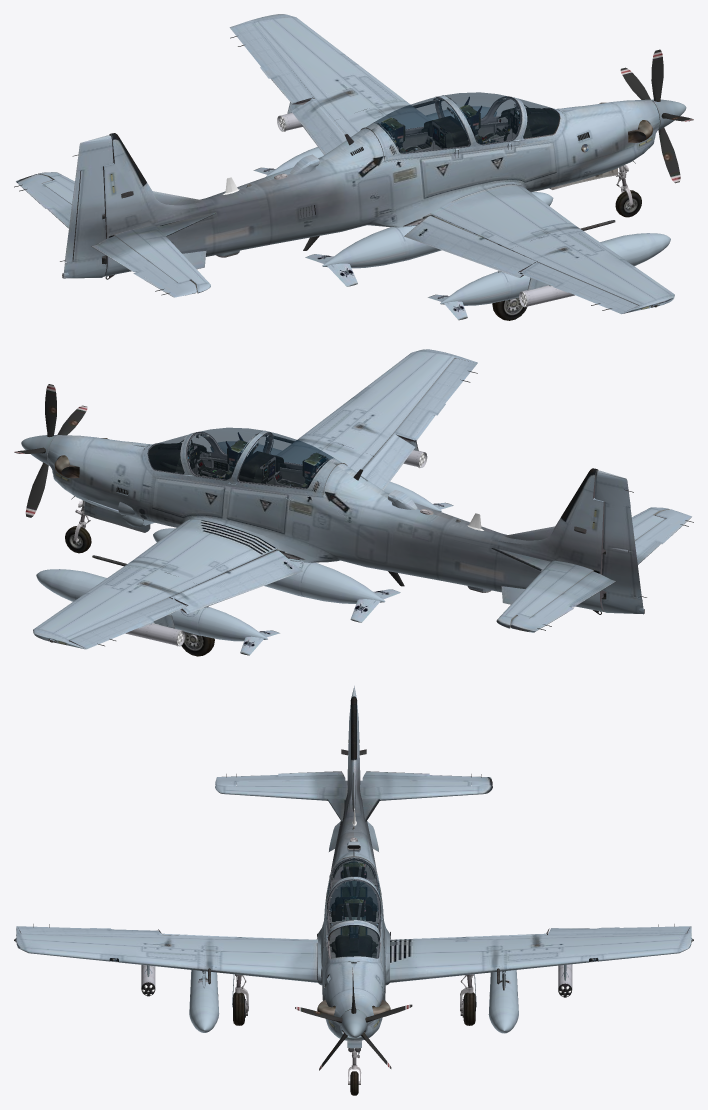
3 views of the same model, one above another, from view 1: azimuth 30°, elevation 25°; view 2: azimuth 150°, elevation 25°; view 3: azimuth 270°, elevation 25° (orthographic). The views are drawn at different scales.
Visible parts, largest first — view 1: a29-airframe (×16), a29-canopy (×2), a29-landingOn (×4), a29-prop; view 2: a29-airframe (×16), a29-canopy (×2), a29-landingOn (×5), a29-prop; view 3: a29-airframe (×12), a29-canopy (×2), a29-prop.
Part boxes in pixels (<box>): a29-airframe (×16): <box>14,14,674,320</box>; a29-canopy (×2): <box>374,92,558,153</box>; a29-landingOn (×4): <box>291,98,641,320</box>; a29-prop: <box>620,49,693,183</box>; a29-airframe (×16): <box>33,349,693,655</box>; a29-canopy (×2): <box>147,427,334,488</box>; a29-landingOn (×5): <box>65,434,415,656</box>; a29-prop: <box>14,384,87,517</box>; a29-airframe (×12): <box>14,696,693,1041</box>; a29-canopy (×2): <box>326,858,381,958</box>; a29-prop: <box>295,967,412,1070</box>.
Bounding box in the file's own units: 9.8 × 3.26 × 10.7.
7 materials, 5 textured.
